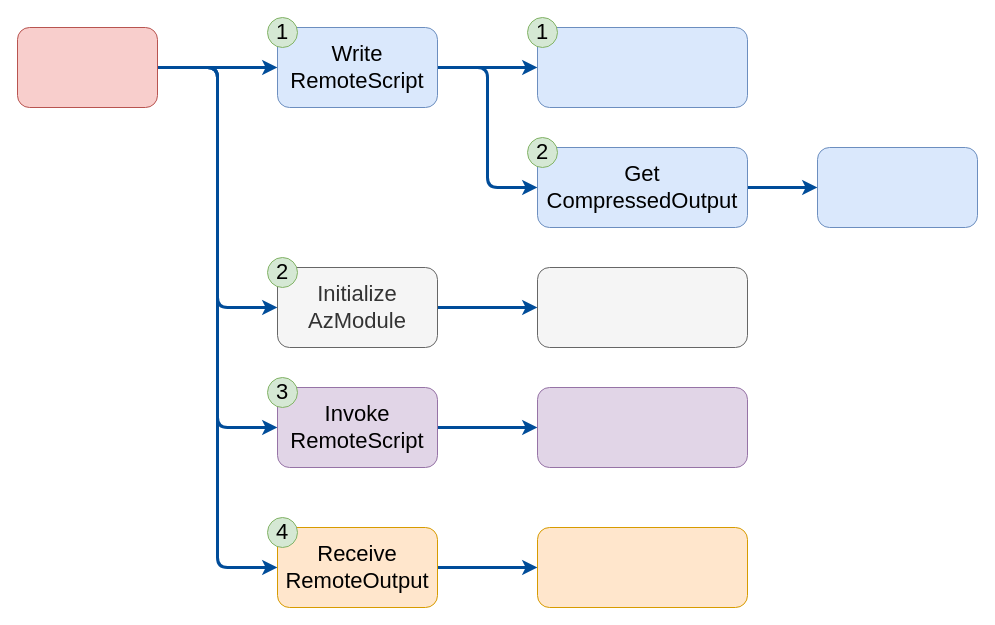
Some shapes in this 995 by 625 pixel diagram are drawn without their labels. Each missing label, with the box of its shape:
Compress XmlString: (816, 146, 978, 228)
Expand XmlString: (536, 526, 748, 608)
Get/Set AzContext: (536, 266, 748, 348)
Invoke AzCommand: (16, 26, 158, 108)
Invoke AzVMRunCommand: (536, 386, 748, 468)
Start RunspaceJob: (536, 26, 748, 108)
